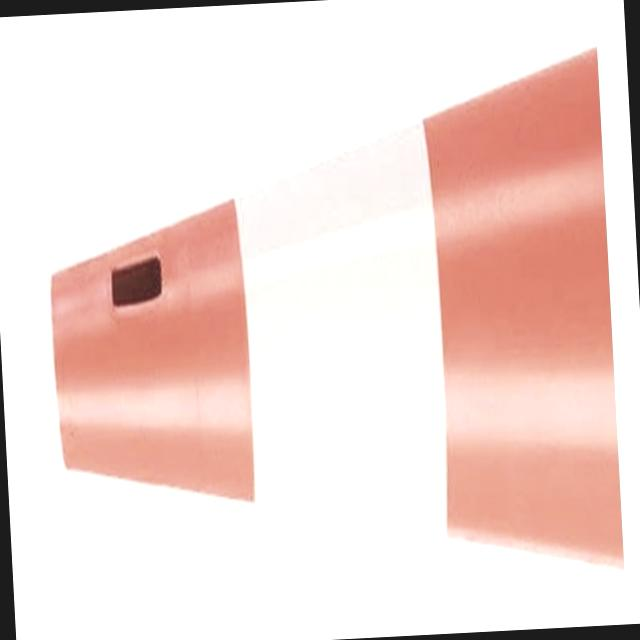cone: (30, 42, 631, 598)
